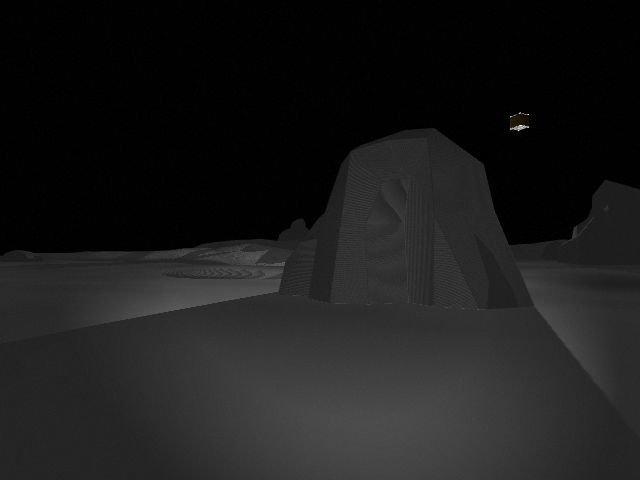cubesat: (506, 108, 534, 136)
